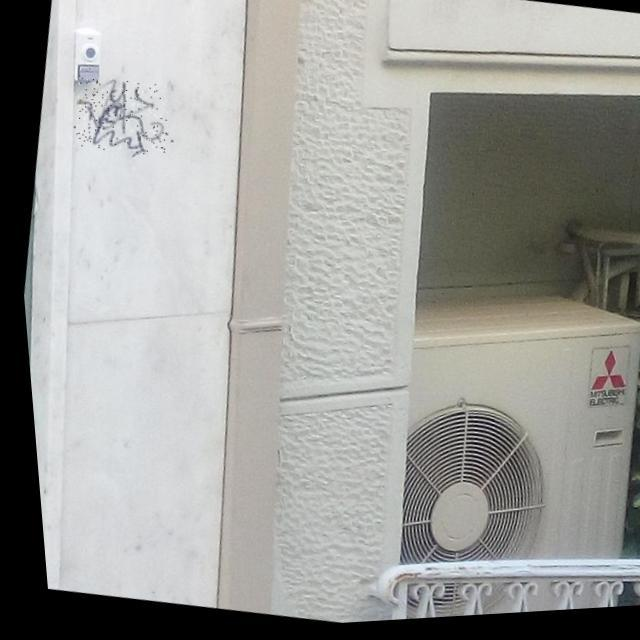-: (64, 72, 174, 164)
